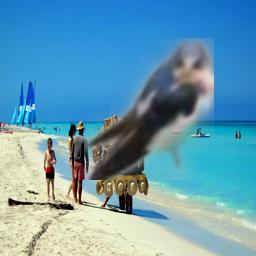Swallow: (84, 38, 214, 180)
